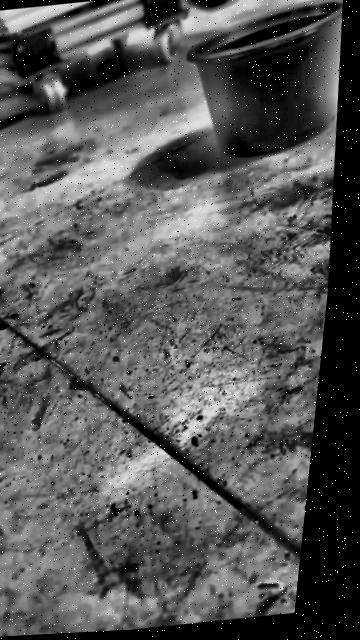pot: (173, 0, 351, 161)
